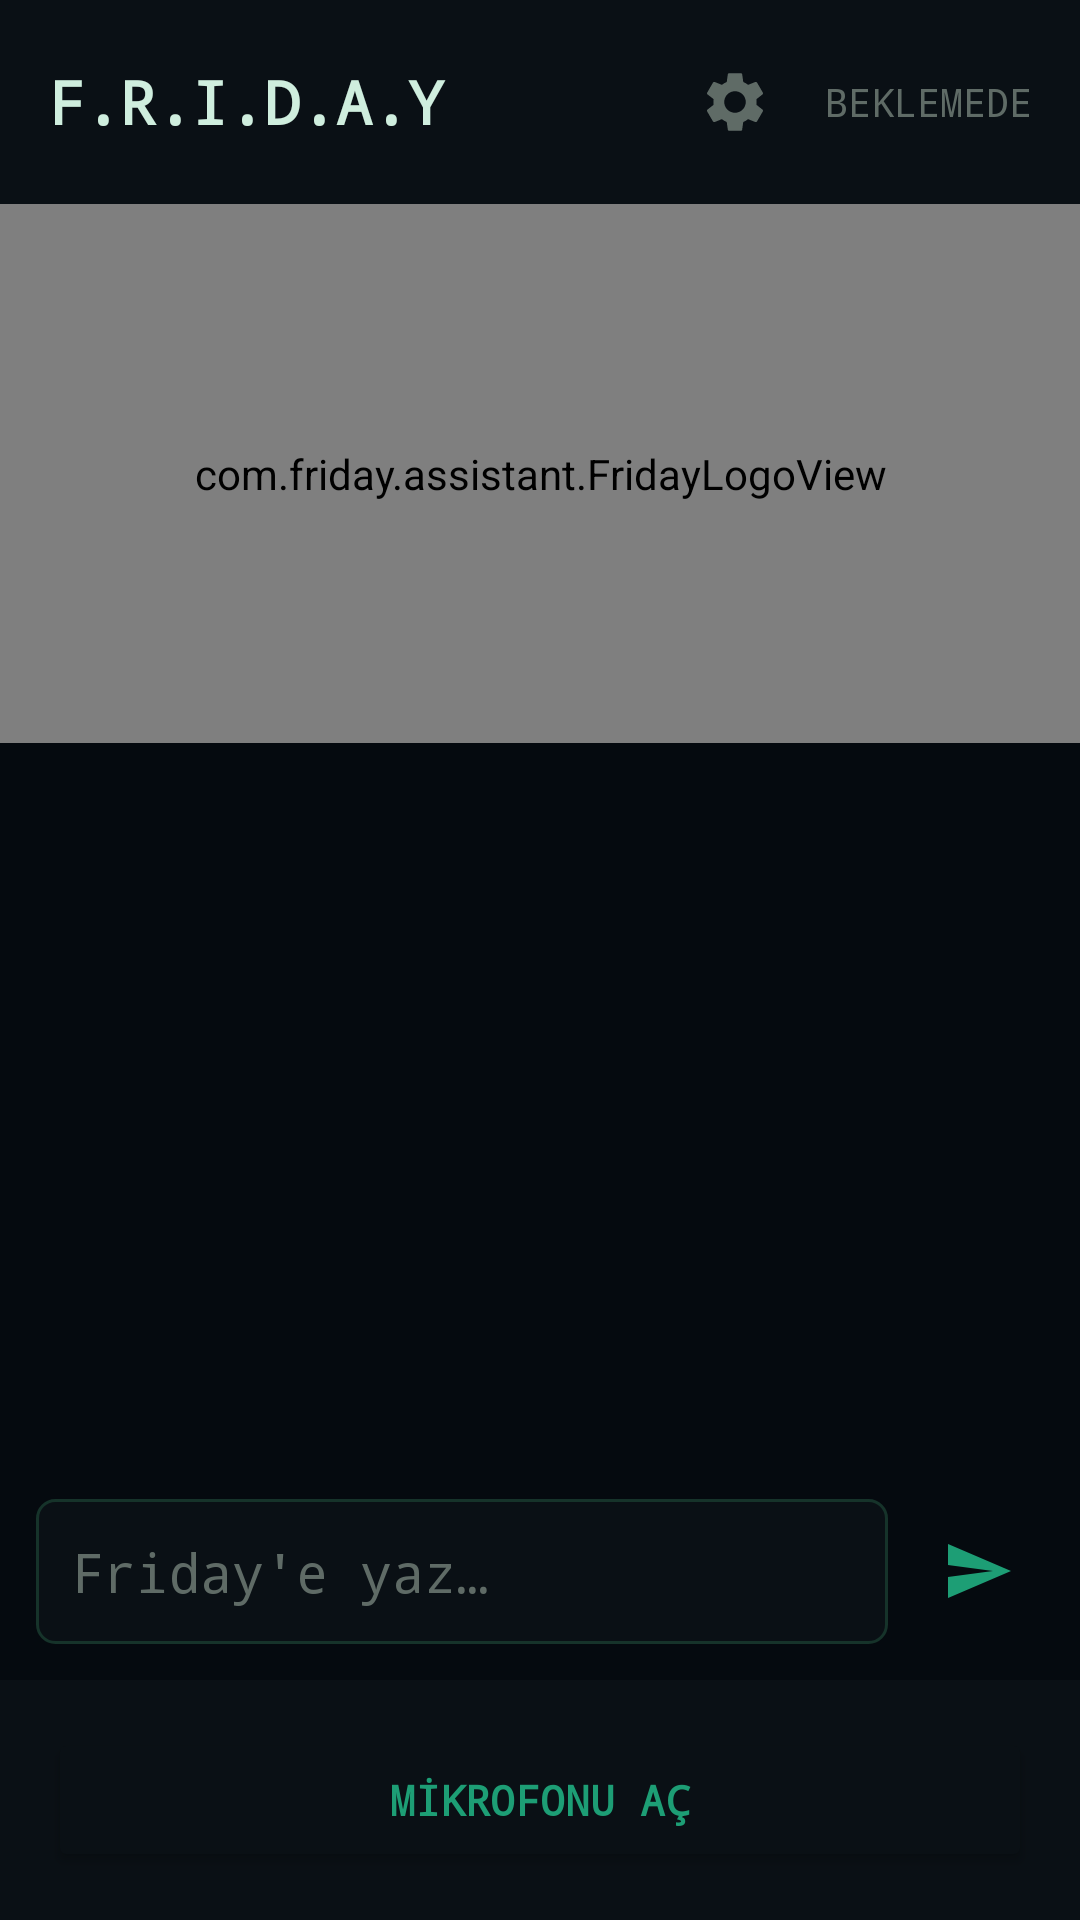

Named icons in this screenshot (1080px x 1920px) and their centers, (x=x, y=y):
GÖNDER: (x=979, y=1571)
